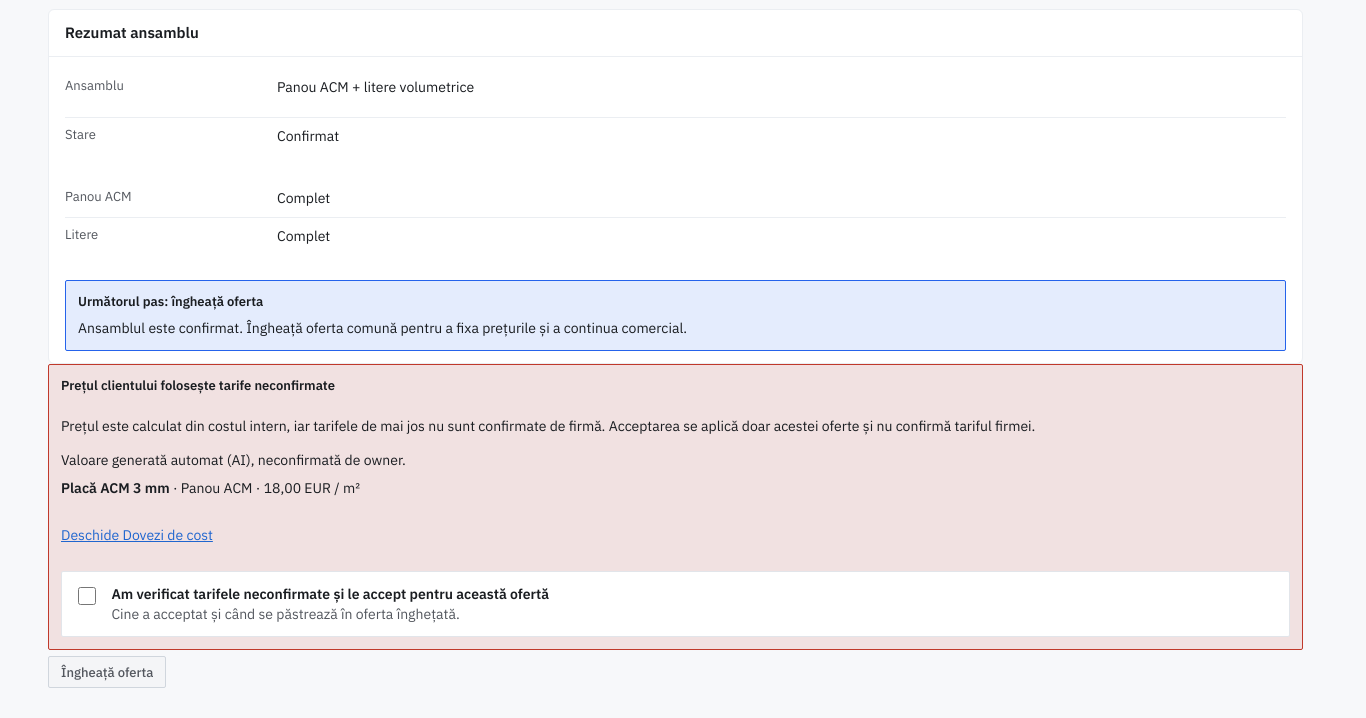
AssemblyPage › freezes the assembly quote only after the Owner accepts its unconfirmed rates
(page scrolled)
Check: the text "Prețul clientului folosește tarife neconfirmate" is shown, box left=61, top=377, right=335, bottom=394
Check: the text "Placă ACM 3 mm · Panou ACM · 18,00 EUR / m²" is shown, box left=61, top=479, right=360, bottom=497
Click the checkbox.
click(87, 596)  # box left=78, top=587, right=96, bottom=605
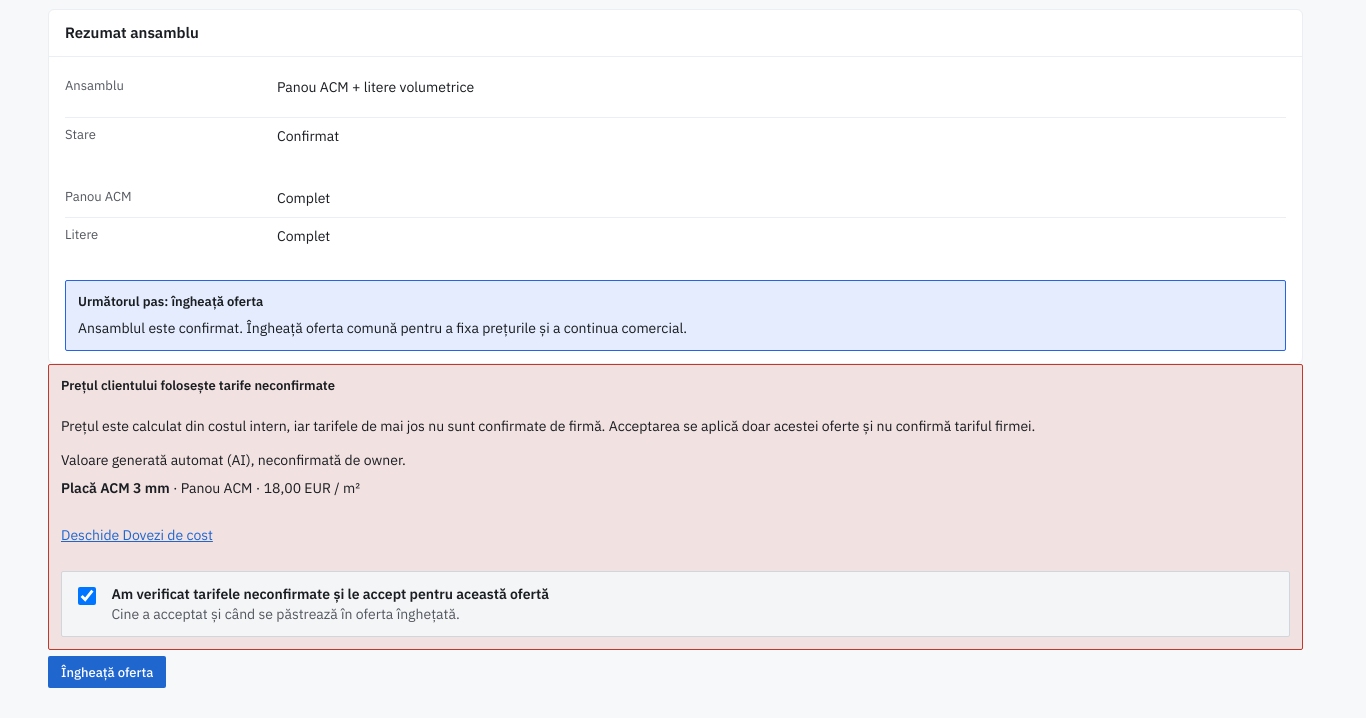
Check: the button "Îngheață oferta" is enabled
Click the button "Îngheață oferta".
click(107, 672)  # box left=48, top=650, right=166, bottom=694
(page scrolled)
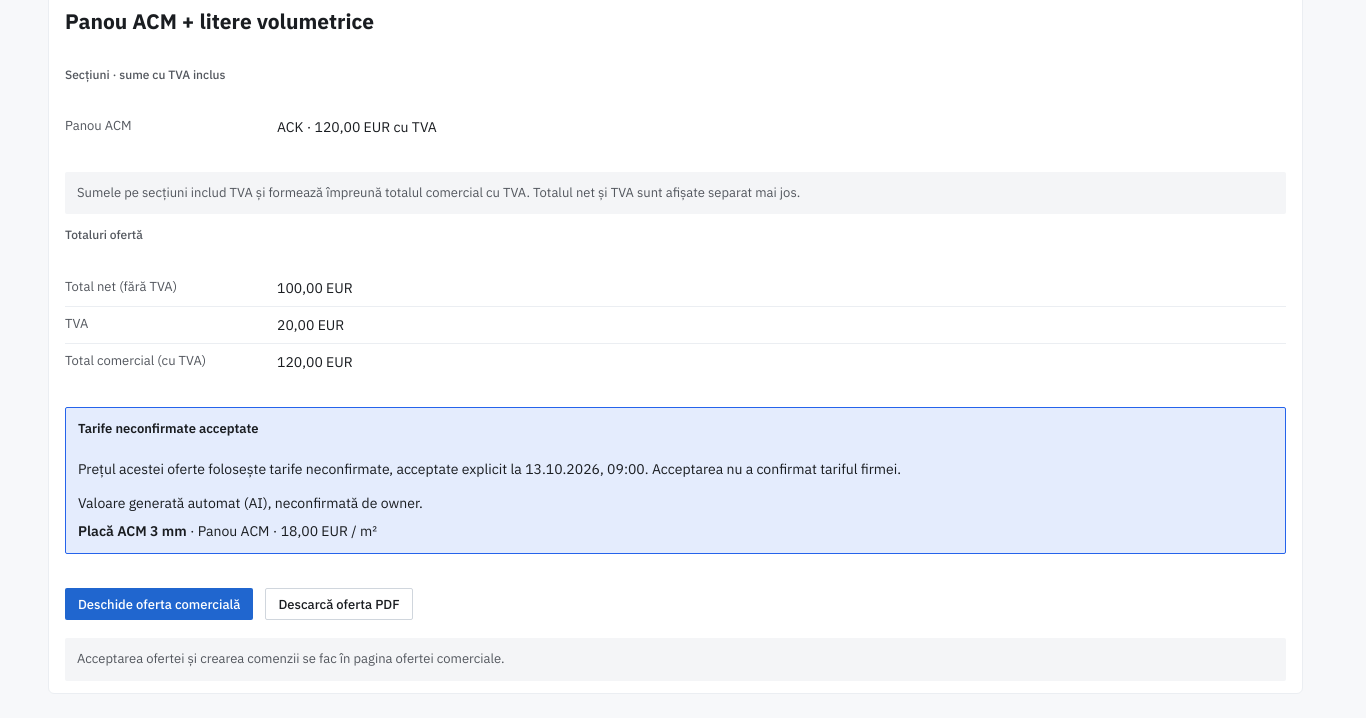
Check: the button "Îngheață oferta" is not shown
Check: the text "Tarife neconfirmate acceptate" is shown, box left=78, top=420, right=258, bottom=437
